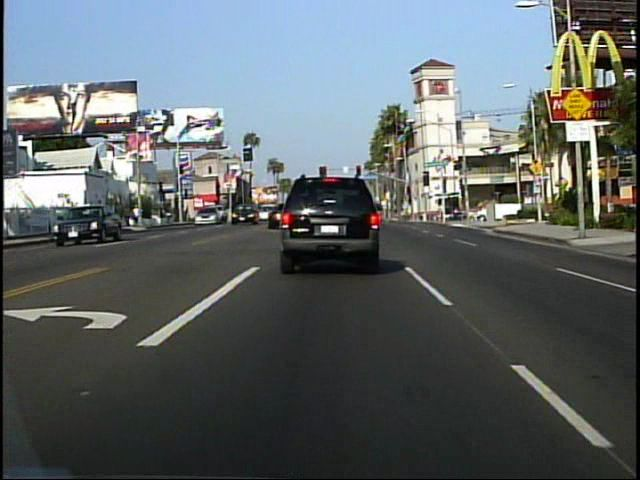car: (274, 168, 388, 271), (50, 202, 122, 247), (192, 205, 219, 224), (228, 204, 255, 223)
